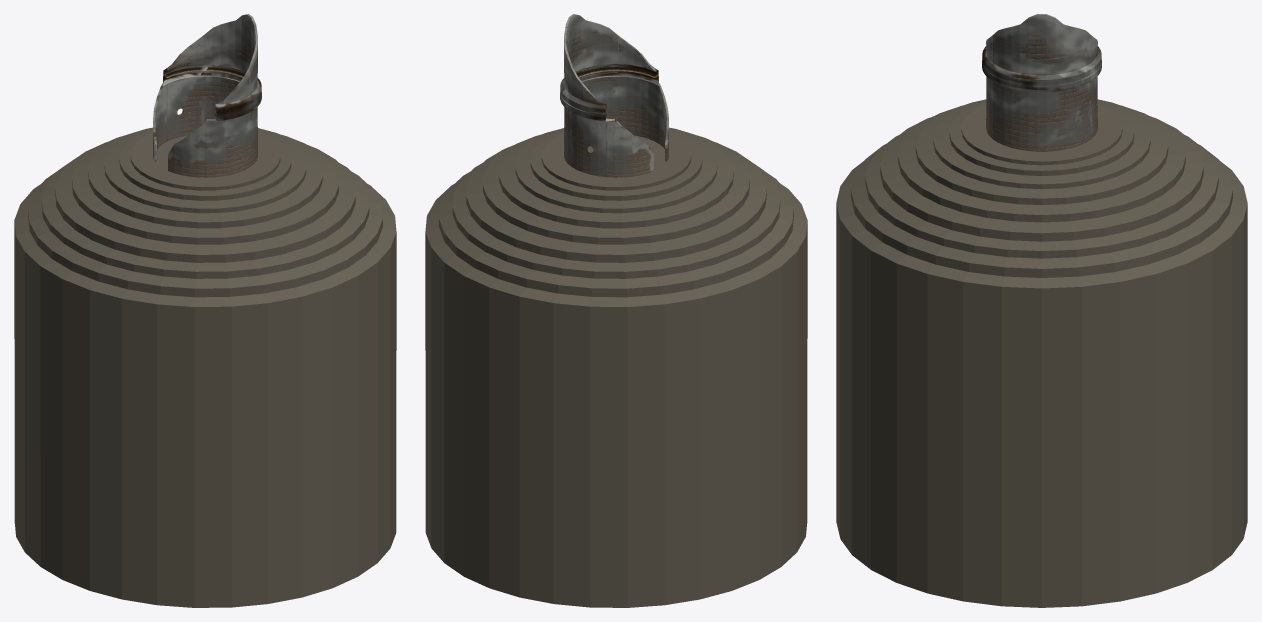
Rendered from assetA.glb.
3 renders of one model, left to right at view 1: azimuth 30°, elevation 25°; view 2: azimuth 150°, elevation 25°; view 3: azimuth 270°, elevation 25°, orthographic. The views are drawn at different scales.
Visible parts, largest first — view 1: Cylinder; view 2: Cylinder; view 3: Cylinder.
Part boxes in pixels (x1=…): Cylinder: x1=14, y1=14, x2=396, y2=607; Cylinder: x1=425, y1=14, x2=807, y2=607; Cylinder: x1=836, y1=14, x2=1247, y2=607.
Size of the model in its own units: 26.35 by 38.14 by 26.78.
2 materials, 1 textured.
